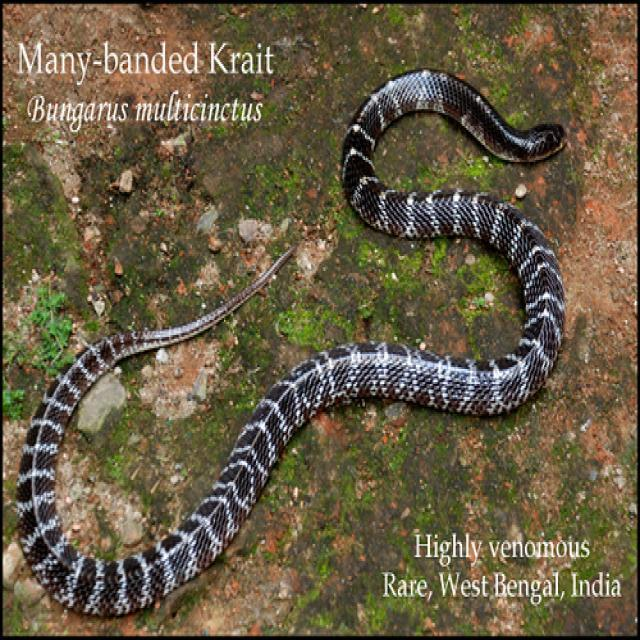Snake: (14, 65, 567, 618)
